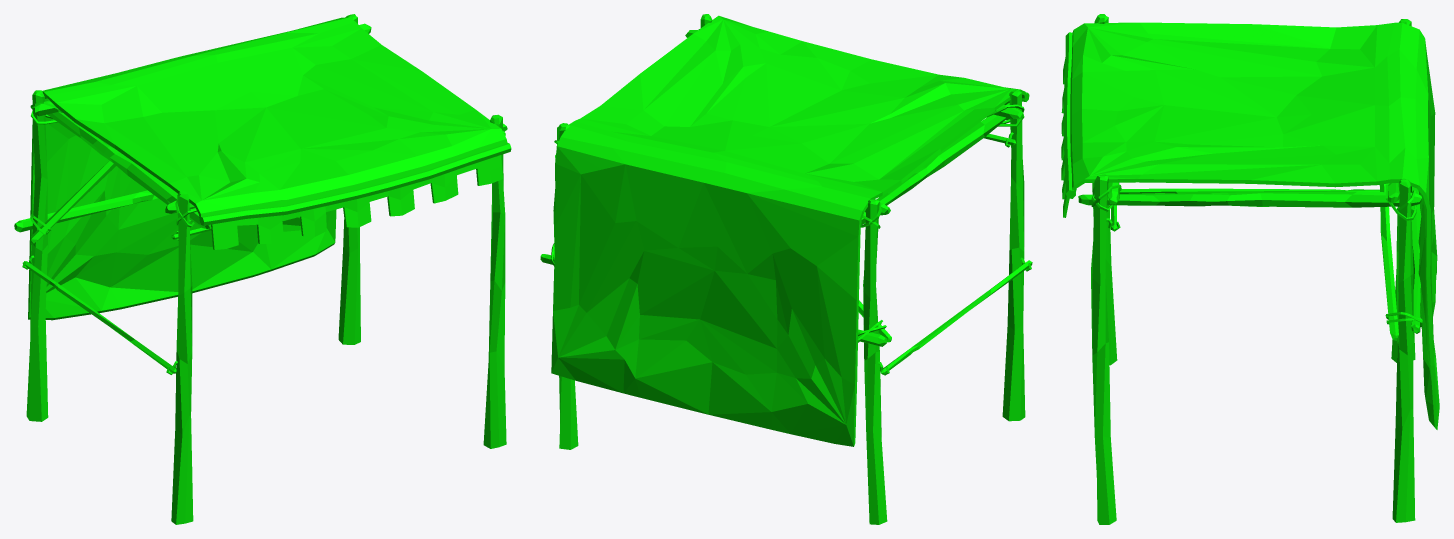
File: SM_Tent_Butcher_Fantasy.fbx
3 renders of one model, left to right at view 1: azimuth 30°, elevation 25°; view 2: azimuth 150°, elevation 25°; view 3: azimuth 270°, elevation 25°, orthographic. The views are drawn at different scales.
Parts seen in each view (by area): view 1: tent-butcher-fantasy; view 2: tent-butcher-fantasy; view 3: tent-butcher-fantasy.
Part boxes in pixels (box(x1,y1,x2,y2)): tent-butcher-fantasy: box(14, 14, 511, 524); tent-butcher-fantasy: box(540, 14, 1032, 524); tent-butcher-fantasy: box(1061, 14, 1439, 524).
Bounding box in the file's own units: 3.13 × 2.81 × 2.79.
